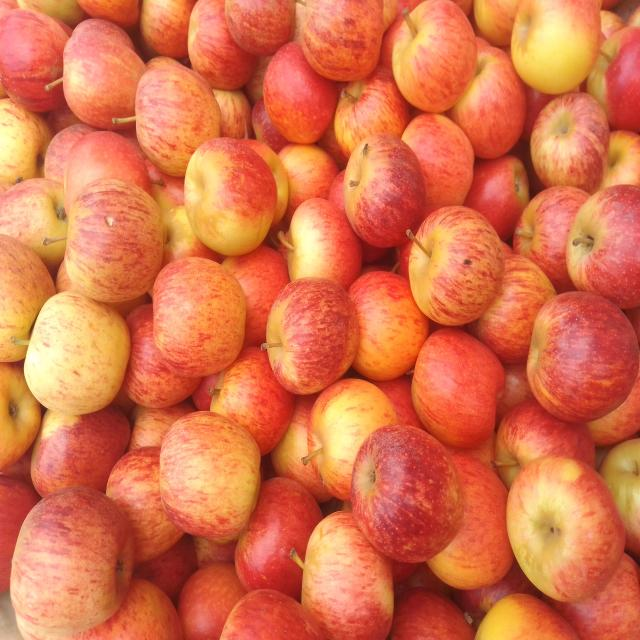apple: (11, 487, 133, 635), (507, 456, 624, 602), (351, 425, 465, 563), (528, 292, 638, 422), (25, 291, 130, 415), (160, 412, 259, 537), (65, 179, 163, 302), (302, 512, 393, 639), (428, 455, 513, 589), (409, 207, 504, 326), (304, 379, 397, 500), (412, 328, 504, 446), (154, 258, 245, 377), (265, 278, 358, 394), (185, 139, 277, 255), (235, 478, 322, 599), (136, 66, 226, 176), (393, 0, 477, 113), (468, 255, 555, 363), (344, 133, 426, 247), (495, 399, 595, 489), (211, 347, 294, 455), (63, 20, 145, 129), (567, 185, 639, 308), (106, 447, 183, 562), (448, 48, 526, 159), (32, 407, 129, 496), (349, 272, 428, 380), (511, 0, 601, 94), (514, 187, 589, 293), (123, 305, 200, 408), (531, 93, 609, 193), (550, 554, 639, 639), (61, 578, 183, 639), (264, 43, 338, 143), (282, 198, 361, 289), (64, 132, 151, 214), (0, 9, 68, 112), (222, 245, 289, 346), (402, 114, 474, 206), (335, 67, 409, 156), (302, 0, 383, 81), (271, 395, 332, 502), (0, 179, 68, 273), (188, 0, 256, 90), (453, 562, 539, 628), (464, 155, 529, 241), (588, 27, 639, 132), (220, 589, 326, 639), (178, 563, 246, 639), (278, 144, 338, 223), (0, 476, 40, 593), (476, 594, 579, 639), (600, 438, 639, 555), (133, 535, 197, 606), (0, 99, 51, 182), (391, 588, 474, 639), (243, 139, 288, 228), (225, 0, 295, 56), (162, 206, 221, 267), (588, 377, 639, 446), (127, 401, 195, 451), (140, 0, 195, 58), (44, 124, 96, 183), (370, 375, 424, 429), (4, 0, 87, 28), (496, 362, 533, 424), (444, 433, 498, 475), (600, 131, 639, 189), (473, 0, 519, 47), (394, 563, 454, 599), (252, 98, 290, 153), (521, 84, 555, 142), (214, 89, 253, 139), (146, 160, 184, 211), (193, 532, 241, 568), (78, 0, 139, 28), (378, 13, 405, 72), (318, 118, 348, 170), (243, 56, 272, 107), (0, 446, 32, 487), (46, 103, 83, 135), (106, 293, 151, 318), (109, 386, 135, 417), (395, 238, 413, 281), (601, 10, 625, 38), (291, 3, 306, 43), (146, 56, 183, 70), (383, 0, 398, 31), (626, 308, 639, 342), (627, 8, 639, 27)
